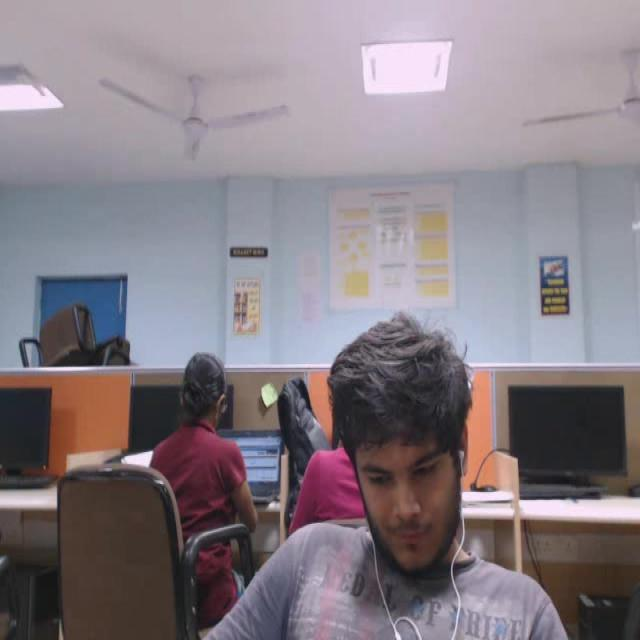Bored: (301, 291, 549, 623)
